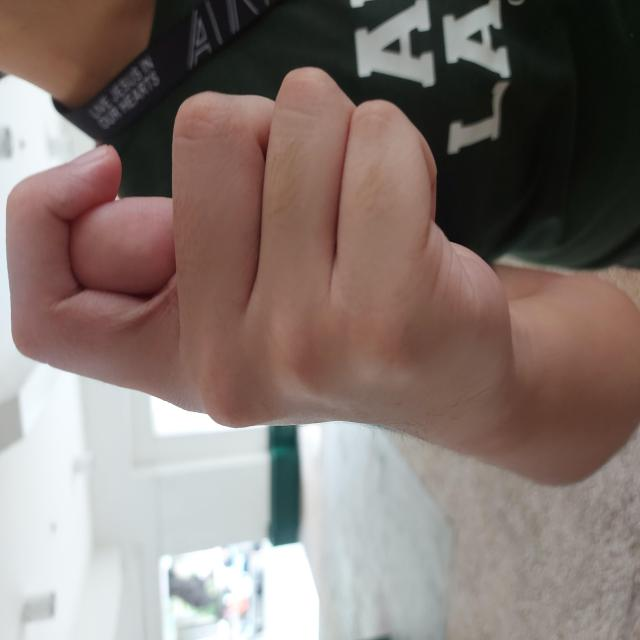T: (208, 3, 578, 515)
